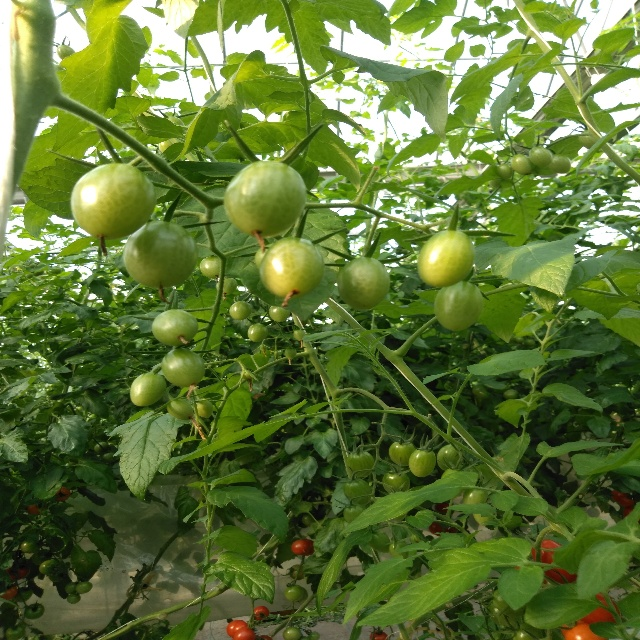l_fully_ripened: (531, 540, 580, 584), (291, 539, 311, 556), (232, 626, 256, 640), (226, 619, 244, 637), (254, 605, 270, 620), (233, 621, 251, 633)
l_green: (70, 163, 158, 240), (223, 161, 307, 240), (123, 219, 198, 289), (258, 237, 325, 299), (417, 228, 476, 288), (337, 257, 390, 311), (434, 281, 484, 331), (161, 347, 206, 388), (151, 309, 199, 347), (130, 371, 166, 407), (407, 447, 436, 478), (345, 450, 374, 478), (344, 479, 372, 506), (436, 444, 464, 471), (388, 440, 416, 466), (382, 470, 410, 494), (166, 399, 194, 420), (527, 146, 553, 167), (461, 484, 488, 504), (368, 530, 391, 553), (200, 256, 221, 279), (511, 154, 533, 175), (343, 504, 367, 523), (549, 153, 570, 174), (388, 540, 409, 560), (229, 301, 251, 320), (247, 323, 267, 343), (193, 399, 214, 418), (578, 129, 597, 149), (216, 277, 237, 295), (24, 603, 45, 620), (269, 306, 290, 322), (39, 559, 60, 575), (284, 585, 304, 601), (20, 538, 40, 553), (495, 164, 512, 179), (282, 627, 301, 640), (473, 514, 493, 526), (75, 582, 92, 594), (65, 582, 78, 594), (67, 593, 81, 604), (294, 328, 305, 341), (285, 348, 296, 359), (241, 372, 253, 379)
